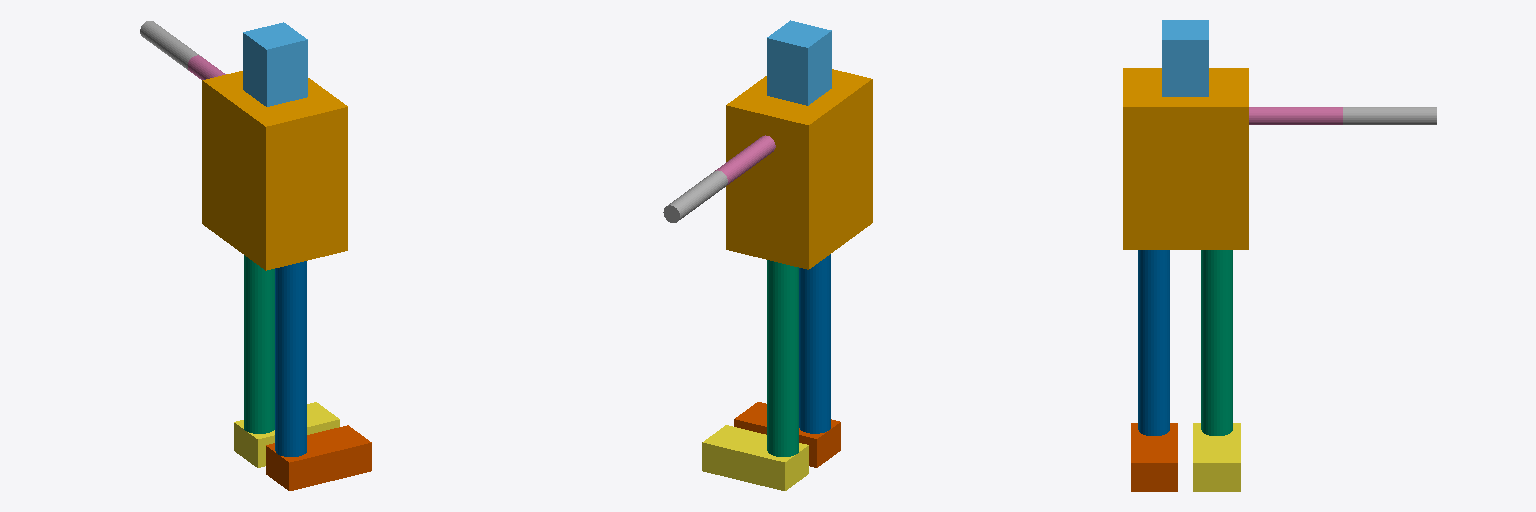
The robot description file, URDF, robot "humanoid":
<?xml version="1.4"?>
<robot name="humanoid">

  <link name="Torso_link">
    <inertial>
        <mass value="10" />
        <inertia ixx="0.375" ixy="0.0" ixz="0.0" iyy="0.31875" iyz="0.0" izz="0.09375"/>
    </inertial>
    <collision>
    <origin rpy="0.0 0.0 0.0" xyz="0.0 0.0 1.05" />
      <geometry>
        <box size="0.3 0.4 0.5" />
      </geometry>
        </collision>
    <visual>
    <origin rpy="0.0 0.0 0.0" xyz="0.0 0.0 1.05" />
      <geometry>
        <box size="0.3 0.4 0.5" />
      </geometry>
    </visual>
  </link>

  <link name="Head_link">
    <inertial>
        <mass value="1" />
        <inertia ixx="0.0375" ixy="0.0" ixz="0.0" iyy="0.031875" iyz="0.0" izz="0.009375"/>
    </inertial>
    <collision>
    <origin rpy="0.0 0.0 0.0" xyz="0.0 0.0 0.1" />
      <geometry>
        <box size="0.15 0.15 0.2" />
      </geometry>
        </collision>
    <visual>
    <origin rpy="0.0 0.0 0.0" xyz="0.0 0.0 0.1" />
      <geometry>
        <box size="0.15 0.15 0.2" />
      </geometry>
    </visual>
  </link>


  <link name="LeftLeg_link">
    <inertial>
        <mass value="10" />
        <inertia ixx="0.53958" ixy="0.0" ixz="0.0" iyy="0.53958" iyz="0.0" izz="0.0125"/>
    </inertial>
    <collision>
    <origin rpy="0.0 0.0 0.0" xyz="0.0 0.0 -0.35"/>
      <geometry>
        <cylinder radius="0.05" length="0.7" />
      </geometry>
    </collision>
    <visual>
    <origin rpy="0.0 0.0 0.0" xyz="0.0 0.0 -0.35" />
      <geometry>
        <cylinder radius="0.05" length="0.7" />
      </geometry>
    </visual>
  </link>

  <link name="LeftFoot_link">
    <inertial>
        <mass value="100" />
        <inertia ixx="0.2708" ixy="0.0" ixz="0.0" iyy="0.8333" iyz="0.0" izz="0.9375"/>
    </inertial>
    <collision>
    <origin rpy="0.0 0.0 0.0" xyz="0.1 0.0 -0.05"/>
      <geometry>
        <box size="0.3 0.15 0.1" />
      </geometry>
    </collision>
    <visual>
    <origin rpy="0.0 0.0 0.0" xyz="0.1 0.0 -0.05"/>
      <geometry>
        <box size="0.3 0.15 0.1" />
      </geometry>
    </visual>
  </link>

  <link name="RightLeg_link">
    <inertial>
        <mass value="10" />
        <inertia ixx="0.53958" ixy="0.0" ixz="0.0" iyy="0.53958" iyz="0.0" izz="0.0125"/>
    </inertial>
    <collision>
    <origin rpy="0.0 0.0 0.0" xyz="0.0 -0.0 -0.35" />
      <geometry>
        <cylinder radius="0.05" length="0.7" />
      </geometry>
    </collision>
    <visual>
    <origin rpy="0.0 0.0 0.0" xyz="0.0 -0.0 -0.35" />
      <geometry>
        <cylinder radius="0.05" length="0.7" />
      </geometry>
    </visual>
  </link>

  <link name="RightFoot_link">
    <inertial>
        <mass value="100" />
        <inertia ixx="0.2708" ixy="0.0" ixz="0.0" iyy="0.8333" iyz="0.0" izz="0.9375"/>
    </inertial>
    <collision>
    <origin rpy="0.0 0.0 0.0" xyz="0.1 0.0 -0.05"/>
      <geometry>
        <box size="0.3 0.15 0.1" />
      </geometry>
    </collision>
    <visual>
    <origin rpy="0.0 0.0 0.0" xyz="0.1 0.0 -0.05"/>
      <geometry>
        <box size="0.3 0.15 0.1" />
      </geometry>
    </visual>
  </link>

  <link name="LeftUpperArm_link">
    <inertial>
        <mass value="1" />
        <inertia ixx="0.007725" ixy="0.0" ixz="0.0" iyy="0.007725" iyz="0.0" izz="0.00045"/>
    </inertial>
    <collision>
    <origin rpy="1.5708 0.0 0.0" xyz="0.0 0.15 0.0" />
      <geometry>
        <cylinder radius="0.03" length="0.3" />
      </geometry>
    </collision>
    <visual>
    <origin rpy="1.5708 0.0 0.0" xyz="0.0 0.15 0.0" />
      <geometry>
        <cylinder radius="0.03" length="0.3" />
      </geometry>
    </visual>
  </link>

  <link name="LeftForeArm_link">
    <inertial>
        <mass value="1" />
        <inertia ixx="0.007725" ixy="0.0" ixz="0.0" iyy="0.007725" iyz="0.0" izz="0.00045"/>
    </inertial>
    <collision>
    <origin rpy="1.5708 0.0 0.0" xyz="0.0 0.15 0.0" />
      <geometry>
        <cylinder radius="0.03" length="0.3" />
      </geometry>
    </collision>
    <visual>
    <origin rpy="1.5708 0.0 0.0" xyz="0.0 0.15 0.0" />
      <geometry>
        <cylinder radius="0.03" length="0.3" />
      </geometry>
    </visual>
  </link>

  <link name="RightUpperArm_link">
    <inertial>
        <mass value="1" />
        <inertia ixx="0.007725" ixy="0.0" ixz="0.0" iyy="0.007725" iyz="0.0" izz="0.00045"/>
    </inertial>
  </link>

  <link name="RightForeArm_link">
    <inertial>
        <mass value="1" />
        <inertia ixx="0.007725" ixy="0.0" ixz="0.0" iyy="0.007725" iyz="0.0" izz="0.00045"/>
    </inertial>
  </link>

  <!-- <joint name="base_to_second_joint" type="continuous">
    <parent link="base_link"/>
    <child link="second_link"/>
    <axis xyz="1 0 0"/>
    <origin xyz="0.0 0.0 0.2" rpy="0.0 0.0 0.0"/> 
  </joint> -->



  <joint name="LeftLeg_joint" type="prismatic">
  <origin xyz="0.0 0.1 0.8" rpy="0.0 0.0 0.0"/> 
    <parent link="Torso_link"/>
    <child link="LeftLeg_link"/>
    <axis xyz="0 0 1"/>
    <limit effort="30000" velocity="100.0" lower="-0.3" upper="0.3" />
    <dnamics damping="0.0" friction="0.0" />
  </joint>

  <joint name="RightLeg_joint" type="prismatic">
  <origin xyz="0.0 -0.1 0.8" rpy="0.0 0.0 0.0"/> 
    <parent link="Torso_link"/>
    <child link="RightLeg_link"/>
    <axis xyz="0 0 1"/>
    <limit effort="30000" velocity="100.0" lower="-0.3" upper="0.3" />
    <dnamics damping="0.0" friction="0.0" />
    <mimic joint="LeftLeg_joint" multiplier="1" offset="0"/>
  </joint>

  <joint name="LeftUpperArm_joint" type="revolute">
  <origin xyz="0.0 0.2 1.2" rpy="0.0 0.0 0.0"/> 
    <parent link="Torso_link"/>
    <child link="LeftUpperArm_link"/>
    <axis xyz="1 0 0"/>
    <limit effort="30" velocity="1.0" lower="-0.0" upper="0.0" />
    <dynamics damping="10.0" friction="0.0"/>
  </joint>

  <joint name="LeftForeArm_joint" type="revolute">
  <origin xyz="0.0 0.3 0.0" rpy="0.0 0.0 0.0"/> 
    <parent link="LeftUpperArm_link"/>
    <child link="LeftForeArm_link"/>
    <axis xyz="1 0 0"/>
    <limit effort="30000" velocity="1000.0" lower="-0.5" upper="0.5" />
  </joint>

  <joint name="RightUpperArm_joint" type="revolute" >
  <origin xyz="0.0 -0.2 1.2" rpy="0.0 0.0 0.0"/> 
    <parent link="Torso_link"/>
    <child link="RightUpperArm_link"/>
    <axis xyz="1 0 0"/>
    <limit effort="30" velocity="1.0" lower="-0.0" upper="0.0" />
    <dynamics damping="10.0" friction="0.0"/>
  </joint>

  <joint name="RightForeArm_joint" type="revolute" >
  <origin xyz="0.0 -0.3 0.0" rpy="0.0 0.0 0.0"/> 
    <parent link="RightUpperArm_link"/>
    <child link="RightForeArm_link"/>
    <axis xyz="1 0 0"/>
    <limit effort="30000" velocity="1000.0" lower="-0.5" upper="0.5" />
  </joint>

  <joint name="Head_joint" type="fixed">
  <origin xyz="0.0 0.0 1.3" rpy="0.0 0.0 0.0"/> 
    <parent link="Torso_link"/>
    <child link="Head_link"/>
    <axis xyz="0 0 1"/>
  </joint>

  <joint name="LeftFoot_joint" type="fixed">
  <origin xyz="0.0 0.0 -0.7" rpy="0.0 0.0 0.0"/> 
    <parent link="LeftLeg_link"/>
    <child link="LeftFoot_link"/>
    <axis xyz="0 0 1"/>
  </joint>

  <joint name="RightFoot_joint" type="fixed">
  <origin xyz="0.0 0.0 -0.7" rpy="0.0 0.0 0.0"/> 
    <parent link="RightLeg_link"/>
    <child link="RightFoot_link"/>
    <axis xyz="0 0 1"/>
  </joint>


   <!--                GAZEBO RELATED PART                             -->

  <gazebo>
    <static>true</static>
  </gazebo>

</robot>

--- What the picture shows (computed from the rendered views, not written in the file) ---
Views: 3 orthographic renders of the robot side by side, from view 1: azimuth 30°, elevation 25°; view 2: azimuth 150°, elevation 25°; view 3: azimuth 270°, elevation 25°.
Model humanoid with 10 links and 9 joints (4 revolute, 2 prismatic, 3 fixed), rooted at Torso_link, posed every joint at zero.
Visible links, largest first — view 1: Torso_link, RightLeg_link, LeftLeg_link, Head_link, RightFoot_link, LeftFoot_link, LeftForeArm_link, LeftUpperArm_link; view 2: Torso_link, LeftLeg_link, RightLeg_link, Head_link, LeftFoot_link, RightFoot_link, LeftForeArm_link, LeftUpperArm_link; view 3: Torso_link, LeftLeg_link, RightLeg_link, Head_link, LeftFoot_link, RightFoot_link, LeftUpperArm_link, LeftForeArm_link.
Boxes of the visible links, x1,y1,x2,y2 form: Torso_link: (202, 71, 347, 270); RightLeg_link: (275, 261, 306, 456); LeftLeg_link: (244, 255, 274, 433); Head_link: (243, 22, 307, 106); RightFoot_link: (266, 425, 371, 490); LeftFoot_link: (234, 402, 339, 467); LeftForeArm_link: (140, 21, 201, 70); LeftUpperArm_link: (188, 55, 225, 79); Torso_link: (726, 69, 872, 269); LeftLeg_link: (767, 260, 798, 456); RightLeg_link: (799, 254, 830, 433); Head_link: (767, 20, 831, 105); LeftFoot_link: (702, 425, 808, 490); RightFoot_link: (734, 402, 840, 467); LeftForeArm_link: (663, 170, 727, 222); LeftUpperArm_link: (715, 135, 775, 184); Torso_link: (1123, 68, 1248, 249); LeftLeg_link: (1201, 250, 1232, 435); RightLeg_link: (1138, 250, 1169, 435); Head_link: (1162, 20, 1208, 96); LeftFoot_link: (1193, 423, 1240, 491); RightFoot_link: (1131, 423, 1177, 491); LeftUpperArm_link: (1249, 107, 1342, 124); LeftForeArm_link: (1343, 107, 1436, 124).
Bounding box of the posed robot: 0.4 × 1 × 1.5 m (x, y, z).
Geometry: primitives only (box / cylinder / sphere), no mesh files.